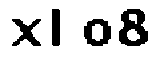8: (118, 9, 152, 50)
l: (48, 6, 66, 49)
o: (78, 17, 114, 47)
x: (9, 17, 44, 51)
